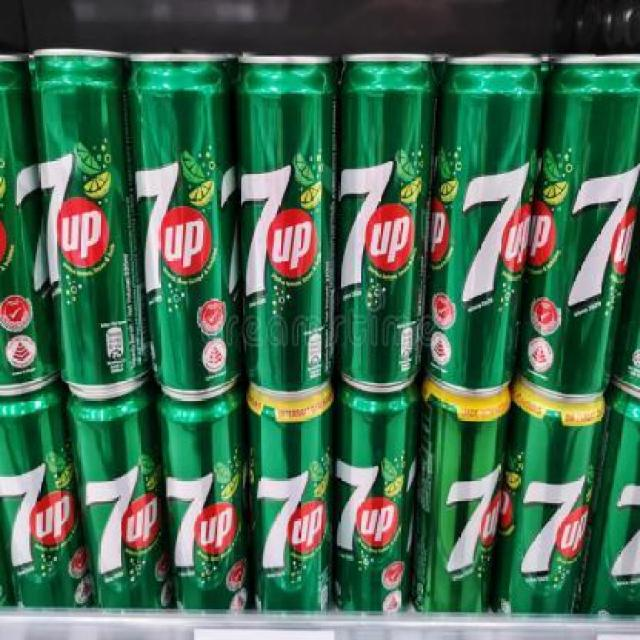Drinks: (126, 52, 246, 406), (31, 49, 151, 402), (523, 47, 640, 399), (432, 54, 545, 397), (238, 52, 337, 406), (337, 52, 435, 396), (498, 389, 608, 616), (415, 388, 514, 614), (0, 391, 97, 612), (66, 397, 163, 612), (161, 400, 257, 612), (337, 397, 425, 617), (247, 402, 336, 616)
